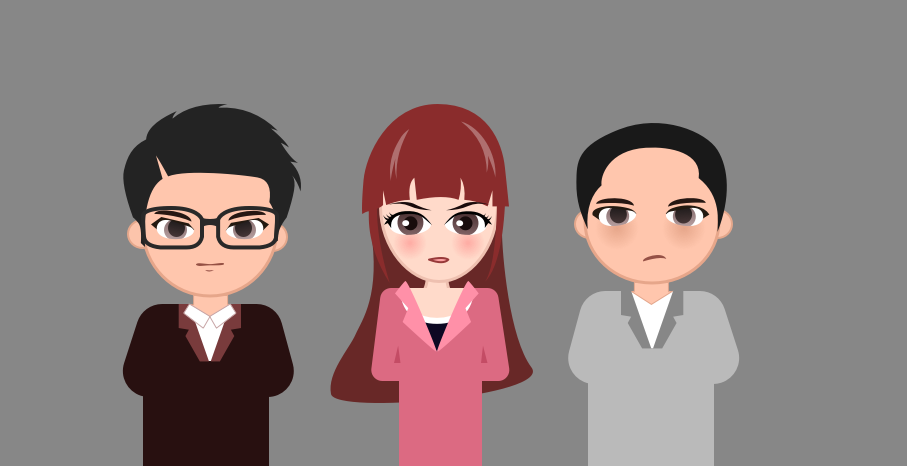nomask: (105, 100, 324, 303), (354, 100, 540, 289), (565, 116, 754, 281)
